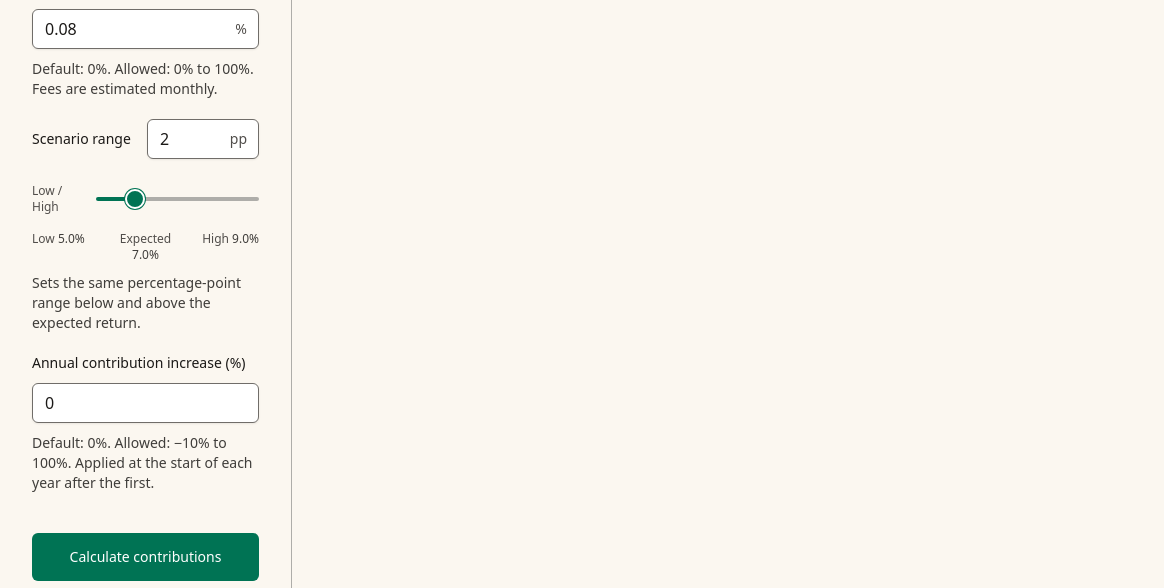
Scenario: target planner › shows API field errors beside reused assumption controls
(page scrolled)
Click the button "Calculate contributions": (146, 557) [32,533,259,581]
(page scrolled)
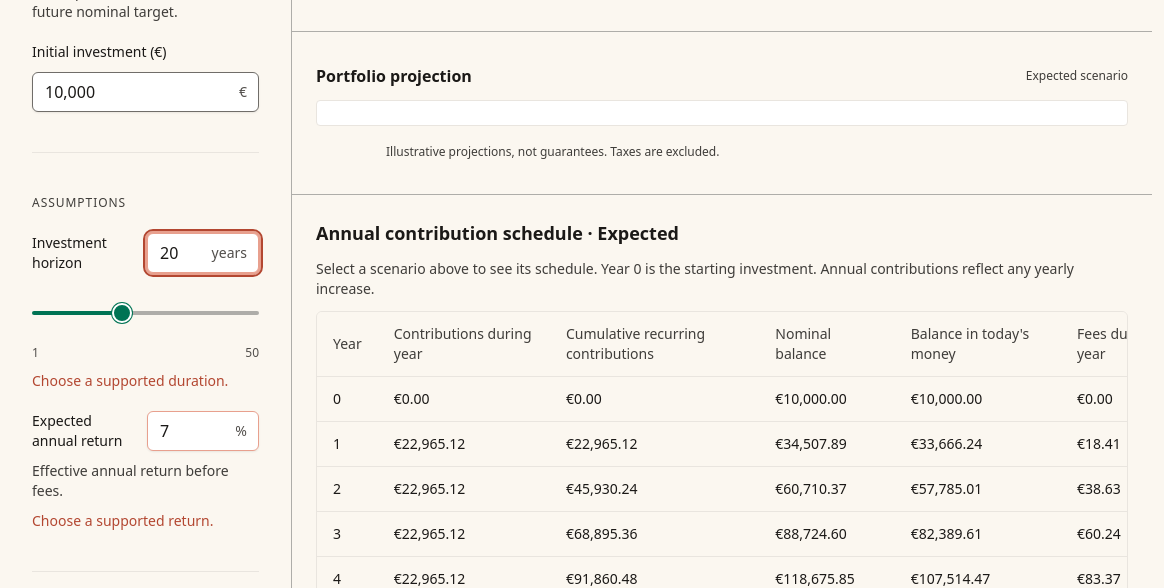
Expected: the text "Choose a supported duration." is shown, [32,371,259,391]
Set the slider labelled "Investment horizon" to "22": (130, 313) [32,291,259,335]
(page scrolled)
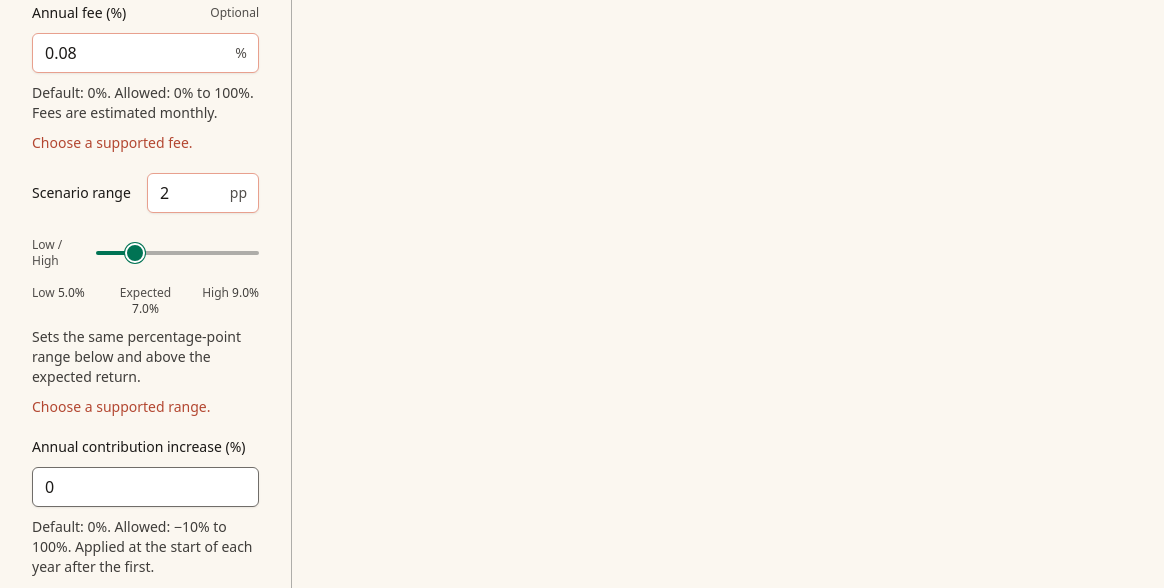
Expected: the text "Choose a supported duration." is gone
Set the slider named "Scenario range" to "3": (148, 253) [96,231,259,275]
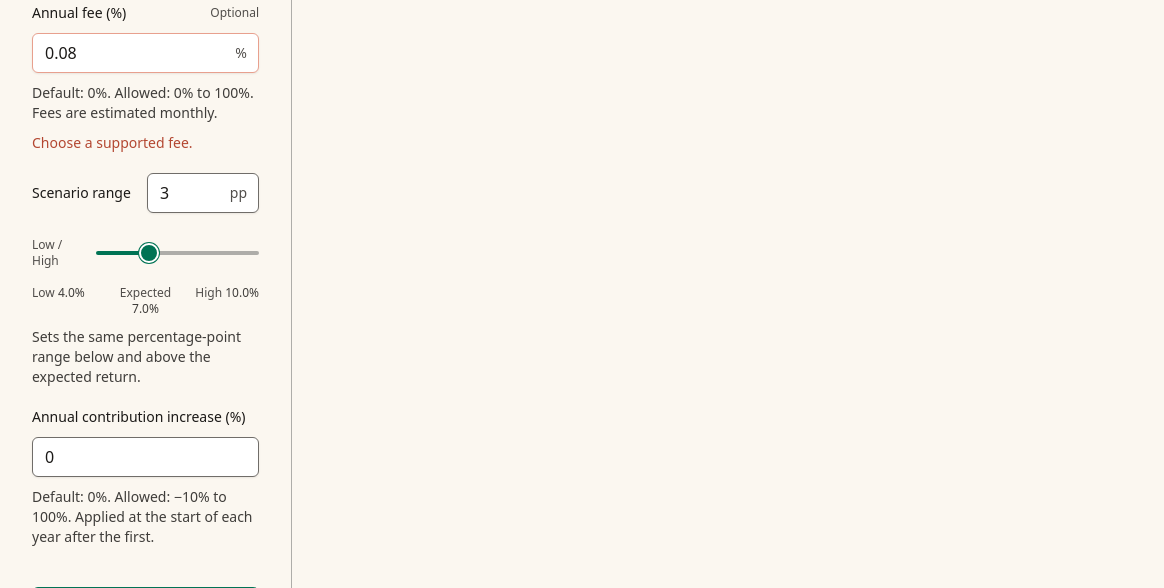
Expected: the text "Choose a supported range." is gone
